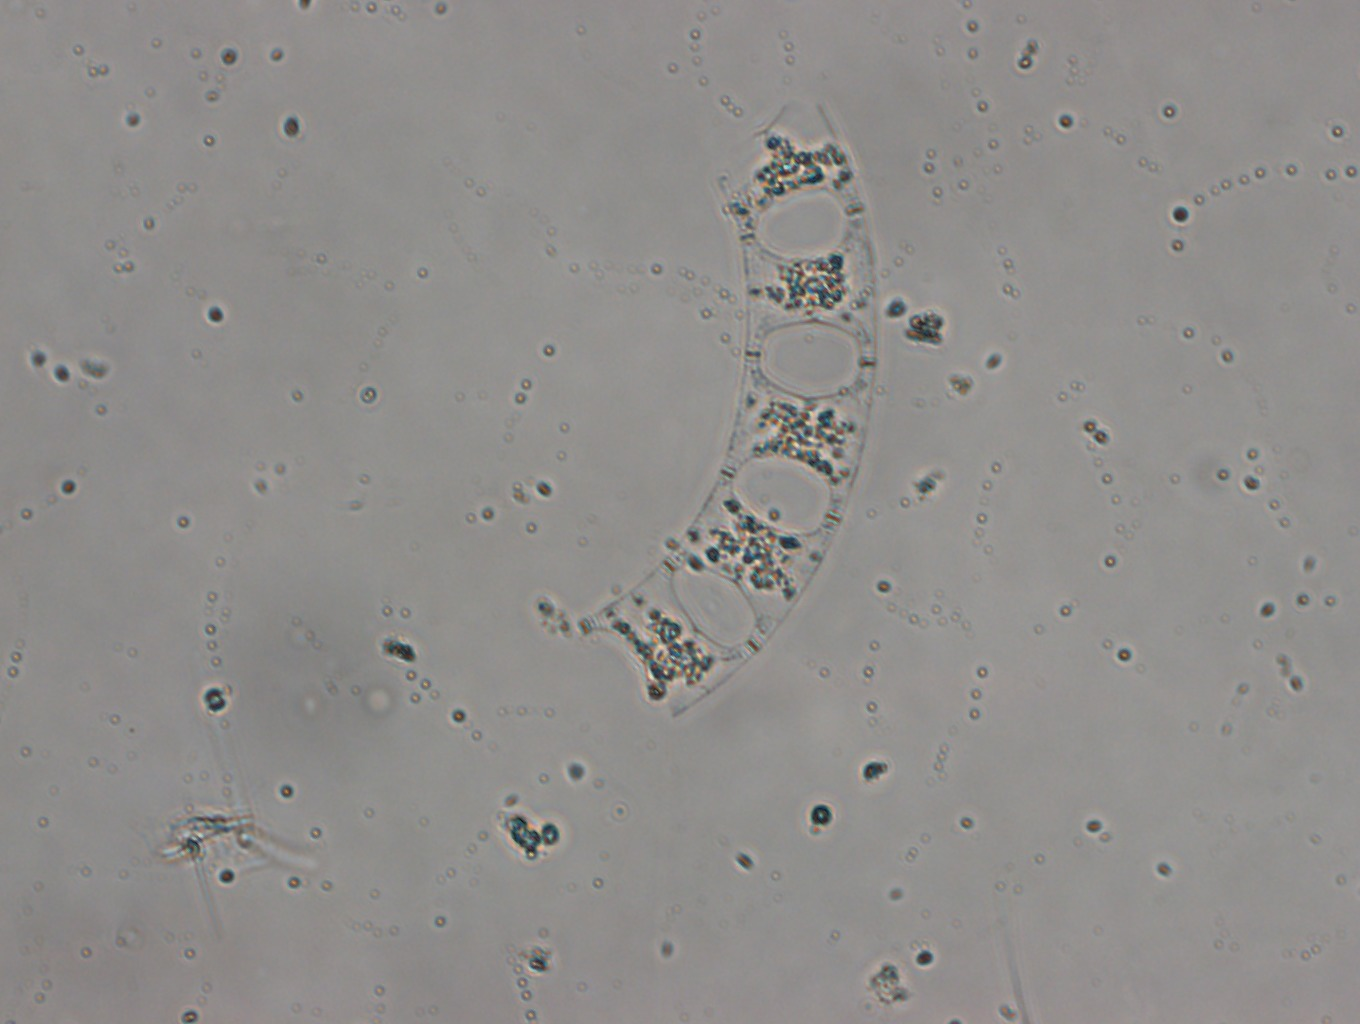eucampia: (577, 101, 878, 717)
